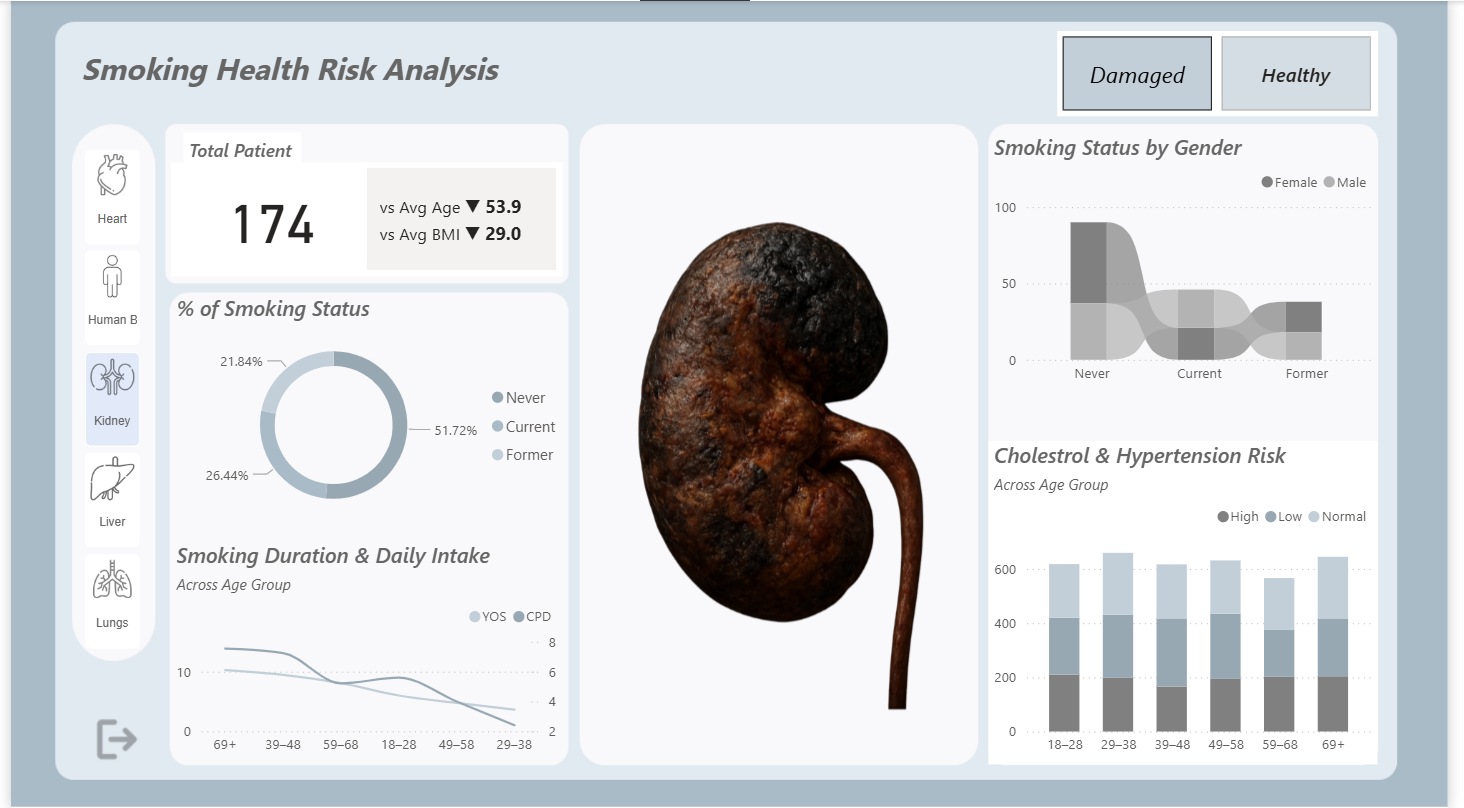

The page's visual inventory and layout, read from the dashboard file:
{"tool":"powerbi","page":{"name":"Page 1","canvas":[1280,720],"ordinal":0},"visuals":[{"type":"cardVisual","fields":{"Data":["CountNonNull(health_dataset.Patient_ID)"]},"box":[142.4,143.6,348.7,101.3],"z":0},{"type":"textbox","box":[153.2,117,105,37.4],"z":1000},{"type":"advancedSlicerVisual","fields":{"Values":["condition.Organ_Condition"]},"box":[931.4,26.5,285.9,76],"z":2000},{"type":"ChicletSlicer1448559807354","fields":{"Category":["Organs.Organ"],"Image":["Organs.Icon_URL"]},"box":[57.9,124.3,72.4,469.3],"z":3000},{"type":"simpleImageEBC4593F96F1425FB3D84C5BF02B5075","fields":{"imageURL":["Image Dataset.Image URL"]},"box":[520,102.5,330.6,577.9],"z":4000},{"type":"donutChart","title":"% of Smoking Status","fields":{"Category":["health_dataset.Smoking_Status"],"Y":["CountNonNull(health_dataset.Smoking_Status)"]},"box":[142.4,260.6,357.1,209.9],"z":5000},{"type":"lineChart","title":"Smoking Duration & Daily Intake","fields":{"Category":["health_dataset.Age Group"],"Y":["Avg(health_dataset.Years_of_Smoking)"],"Y2":["Avg(health_dataset.Cigarettes_Per_Day)"]},"box":[142.4,481.4,348.7,199.1],"z":6000},{"type":"ribbonChart","title":"Smoking Status by Gender","fields":{"Category":["health_dataset.Smoking_Status"],"Y":["CountNonNull(health_dataset.Patient_ID)"],"Series":["health_dataset.Gender"]},"box":[871.1,117,346.2,232.8],"z":7000},{"type":"columnChart","title":"Cholestrol & Hypertension Risk","fields":{"Category":["health_dataset.Age Group"],"Y":["Avg(health_dataset.Cholesterol_Level)"],"Series":["health_dataset.BP_Risk"]},"box":[871.1,392.1,346.2,288.3],"z":8000},{"type":"textbox","box":[57.9,36.2,382.4,53.1],"z":9000}]}

Visuals, with their boxes in screenshot pixels (x1, y1, x2, y2), scaled from the page's 1280x720 canvas onto the 1464x808 screenshot:
cardVisual - CountNonNull(health_dataset.Patient_ID): 163/161/562/275
textbox: 175/131/295/173
advancedSlicerVisual - condition.Organ_Condition: 1065/30/1392/115
ChicletSlicer1448559807354 - Organs.Organ x Organs.Icon_URL: 66/139/149/666
simpleImageEBC4593F96F1425FB3D84C5BF02B5075 - Image Dataset.Image URL: 595/115/973/764
"% of Smoking Status" donutChart: 163/292/571/528
"Smoking Duration & Daily Intake" lineChart: 163/540/562/764
"Smoking Status by Gender" ribbonChart: 996/131/1392/393
"Cholestrol & Hypertension Risk" columnChart: 996/440/1392/764
textbox: 66/41/504/100
